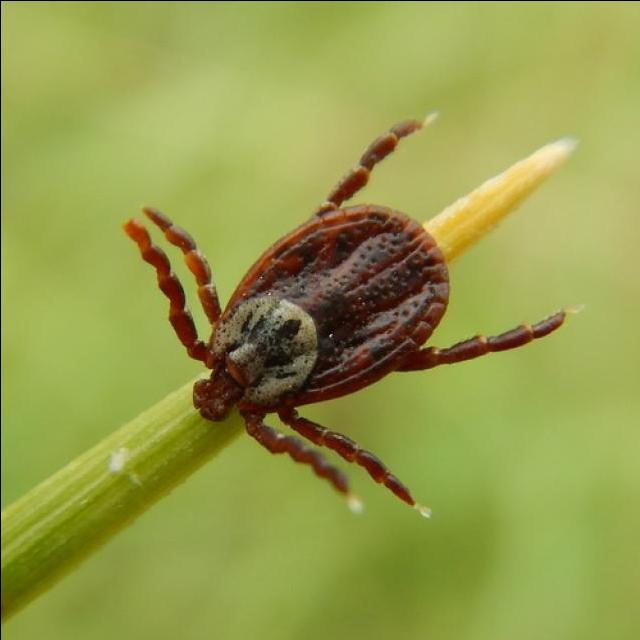Dermacentor Reticulatus-F: (125, 122, 566, 506)
